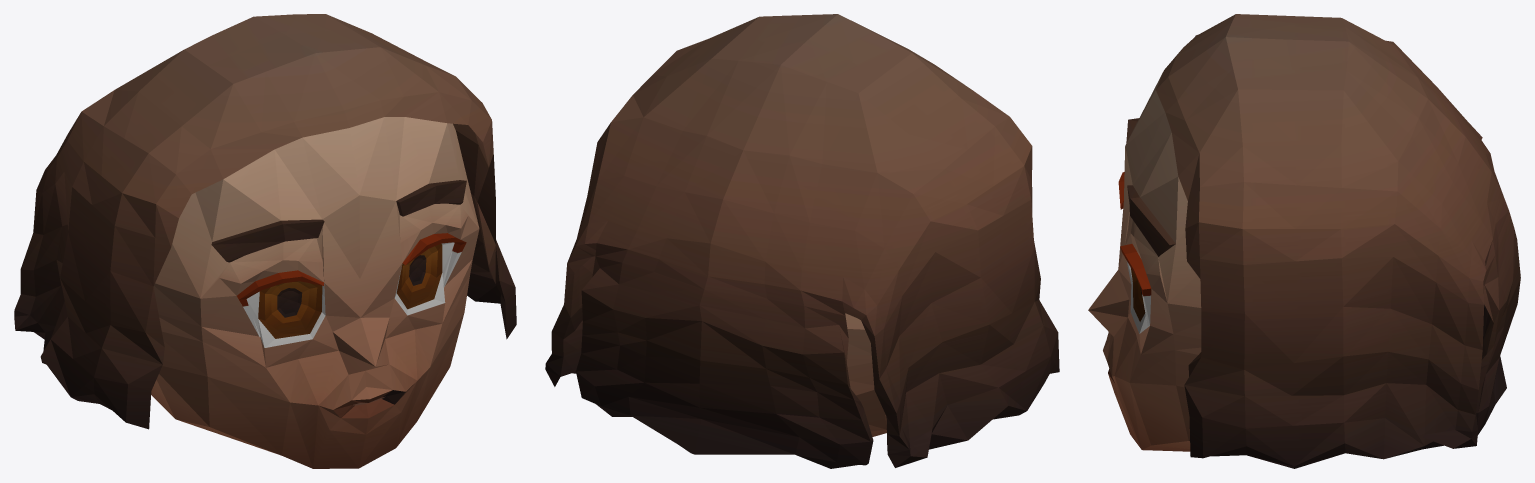
File: TUiHeadMOdelfinalfinal.fbx
3 renders of one model, left to right at view 1: azimuth 30°, elevation 25°; view 2: azimuth 150°, elevation 25°; view 3: azimuth 270°, elevation 25°, orthographic. The views are drawn at different scales.
Visible parts, largest first — view 1: pCube14; view 2: pCube14; view 3: pCube14.
Boxes of the visible parts, x1,y1,x2,y2 form: pCube14: [14, 14, 516, 468]; pCube14: [545, 14, 1059, 468]; pCube14: [1088, 14, 1520, 468].
Size of the model in its own units: 0.1689 by 0.1449 by 0.1427.
2 materials, 2 textured.
